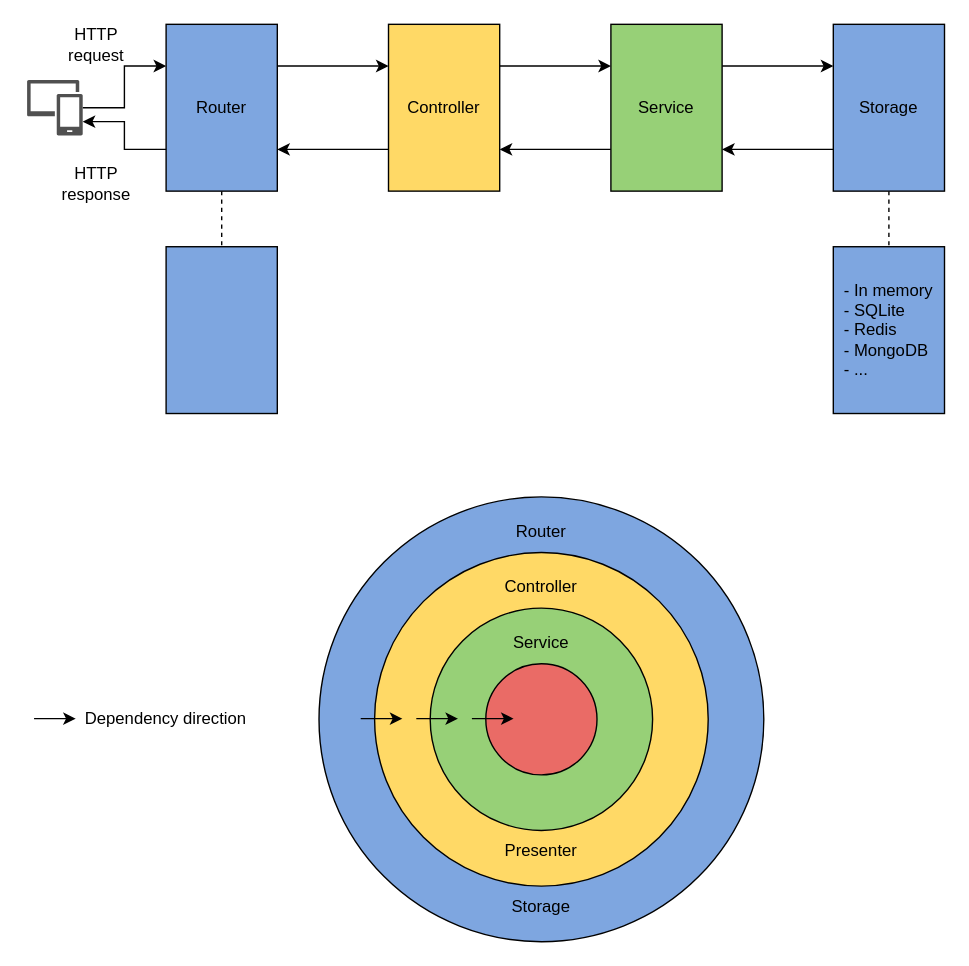
The diagram is 969 pixels wide and 966 high, and some of its shapes have lost their labels. Each missing label, with the centre of its shape:
"- Gin gonic - Mux - ..." belongs at point (221, 329).
"Entity" belongs at point (540, 718).
